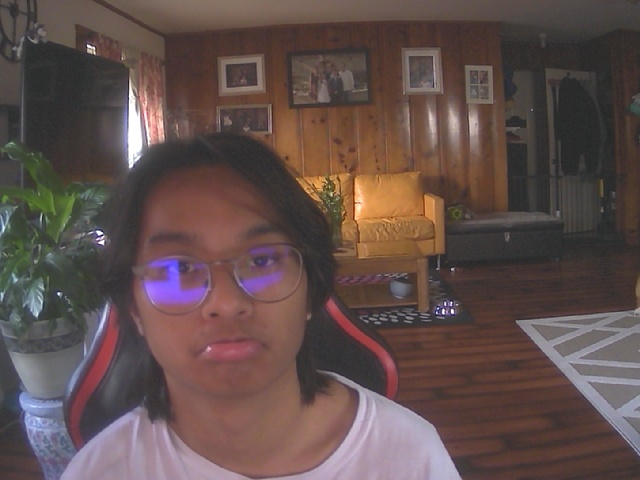sad: (115, 134, 323, 404)
